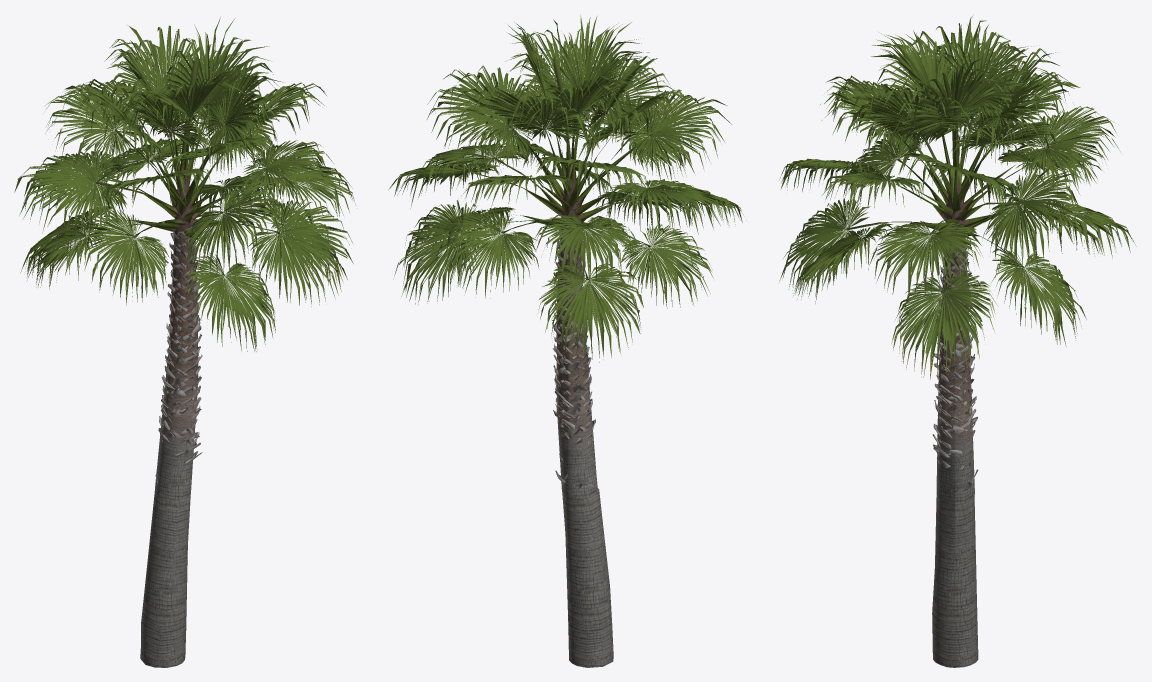
File: palm_fan_d.glb
3 views of the same model, side by side, from view 1: azimuth 30°, elevation 25°; view 2: azimuth 150°, elevation 25°; view 3: azimuth 270°, elevation 25° (orthographic). The views are drawn at different scales.
Visible parts, largest first — view 1: Washingtonia_filifera_HD_Wahsingtonia crownshaft_0; view 2: Washingtonia_filifera_HD_Wahsingtonia crownshaft_0; view 3: Washingtonia_filifera_HD_Wahsingtonia crownshaft_0.
Part boxes in pixels (x1,y1,x2,y2): Washingtonia_filifera_HD_Wahsingtonia crownshaft_0: (14,17,355,667); Washingtonia_filifera_HD_Wahsingtonia crownshaft_0: (388,15,743,667); Washingtonia_filifera_HD_Wahsingtonia crownshaft_0: (779,16,1136,667).
Bounding box in the file's own units: 5.71 × 10.72 × 5.49.
9 materials, 9 textured.
